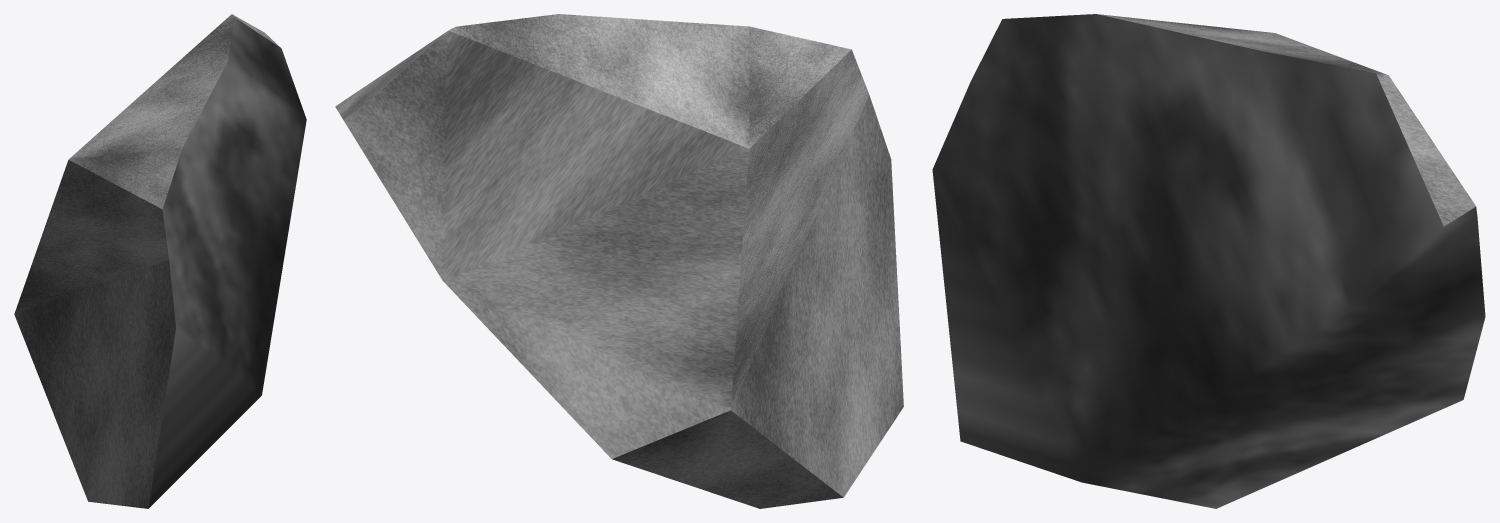
The model's file is tail_cell_024.fbx.
3 renders of one model, left to right at view 1: azimuth 30°, elevation 25°; view 2: azimuth 150°, elevation 25°; view 3: azimuth 270°, elevation 25°, orthographic. The views are drawn at different scales.
Parts seen in each view (by area): view 1: tail_cell.024; view 2: tail_cell.024; view 3: tail_cell.024.
Boxes of the visible parts, box(x1,y1,x2,y2) form: tail_cell.024: box(14, 14, 306, 508); tail_cell.024: box(335, 14, 903, 508); tail_cell.024: box(932, 14, 1485, 508).
Bounding box in the file's own units: 37.01 × 44.73 × 38.47.
